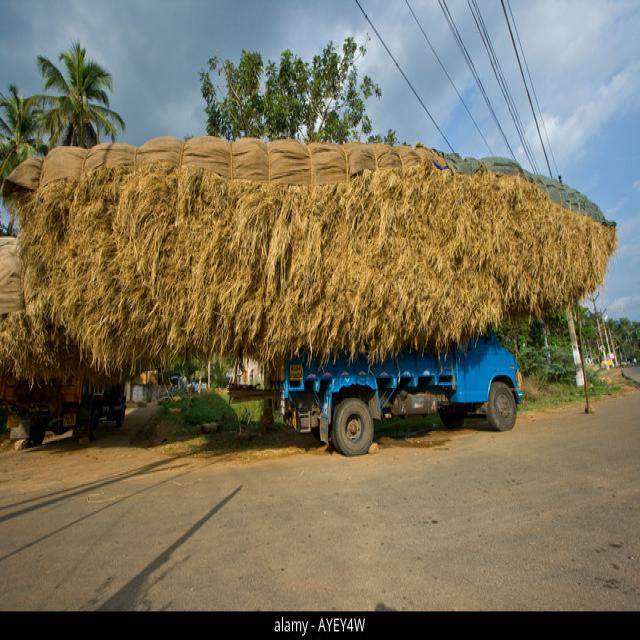normal_truck: (280, 341, 521, 458)
overloaded_truck: (1, 137, 618, 391)
